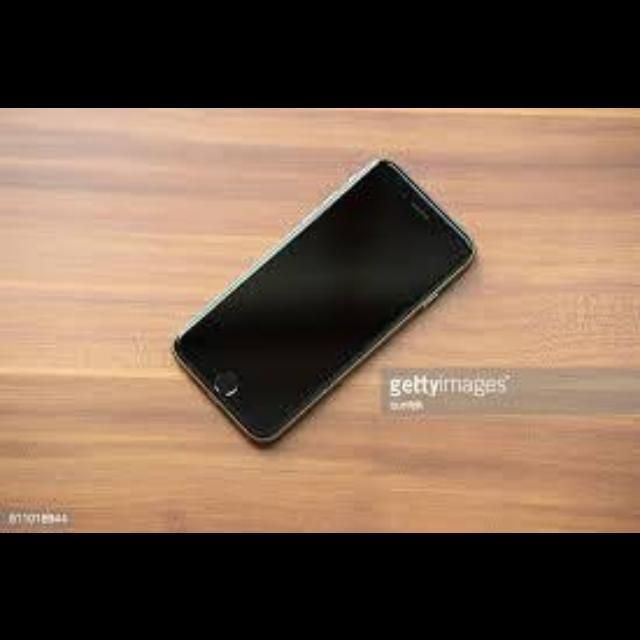Phone: (169, 157, 476, 447)
